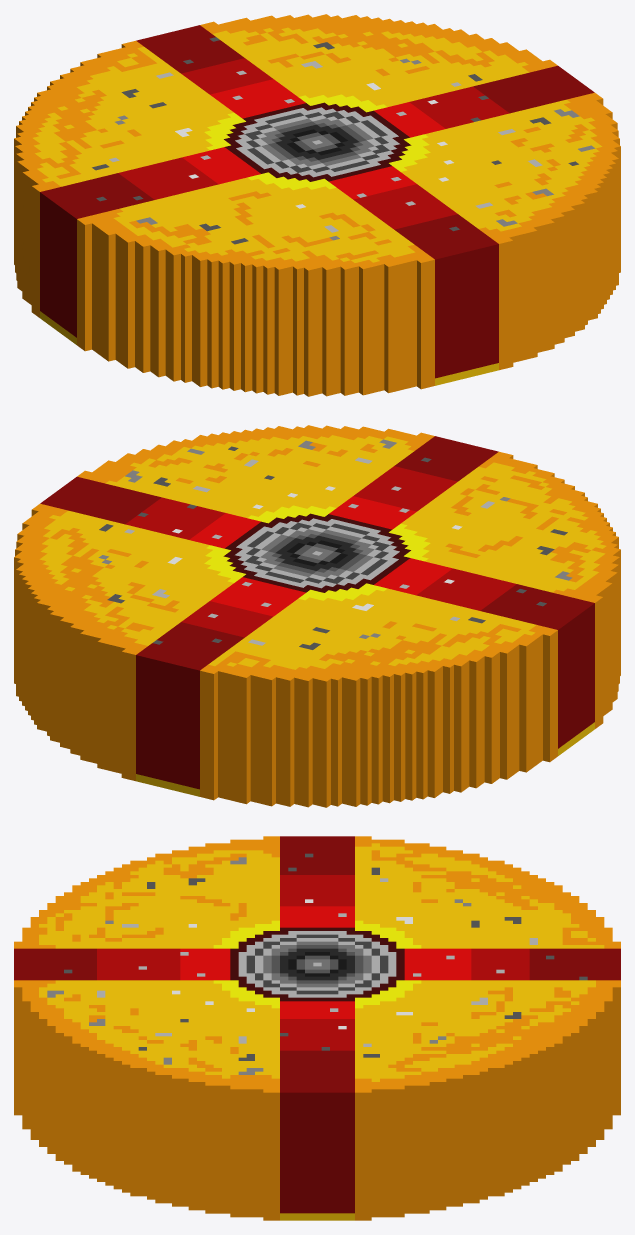
Rendered from stg_2_1.obj.
3 views of the same model, one above another, from view 1: azimuth 30°, elevation 25°; view 2: azimuth 150°, elevation 25°; view 3: azimuth 270°, elevation 25° (orthographic).
Visible parts, largest first — view 1: stg_2_1; view 2: stg_2_1; view 3: stg_2_1.
Part boxes in pixels (x1,y1,x2,y2): stg_2_1: (14,14,620,396); stg_2_1: (14,425,620,807); stg_2_1: (14,836,620,1220).
Size of the model in its own units: 73 by 17 by 73.
Materials: 1 (1 with a texture image).
